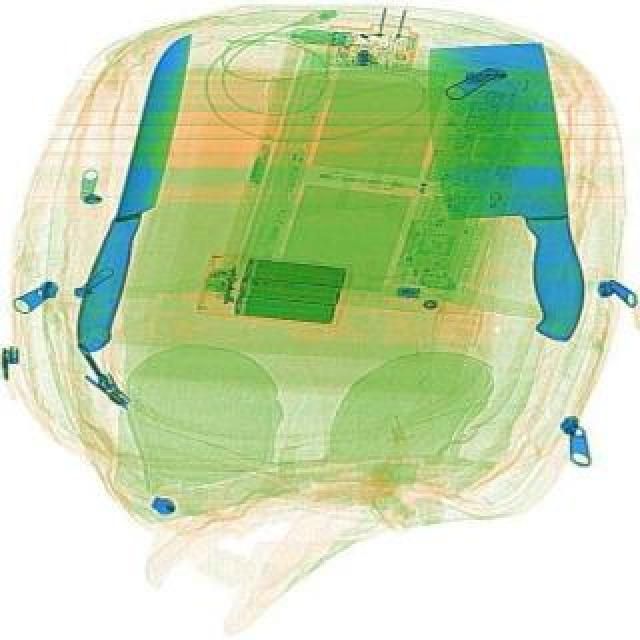knife: (428, 36, 596, 356), (72, 28, 212, 360)
